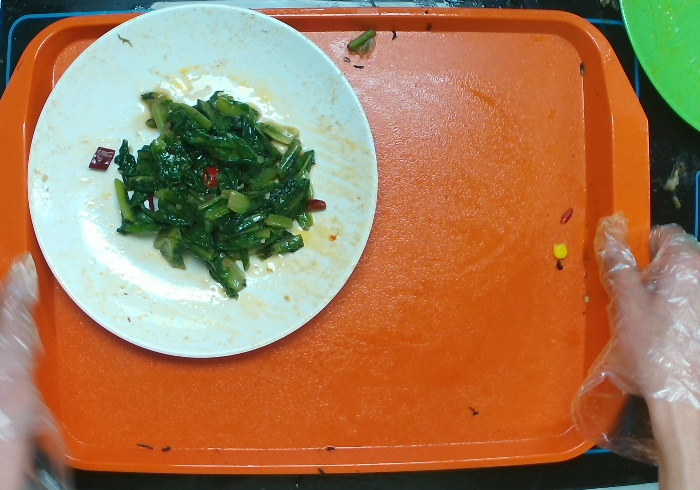HZYJPL-Bai_Se_Yuan_Pan: (25, 1, 379, 359)
